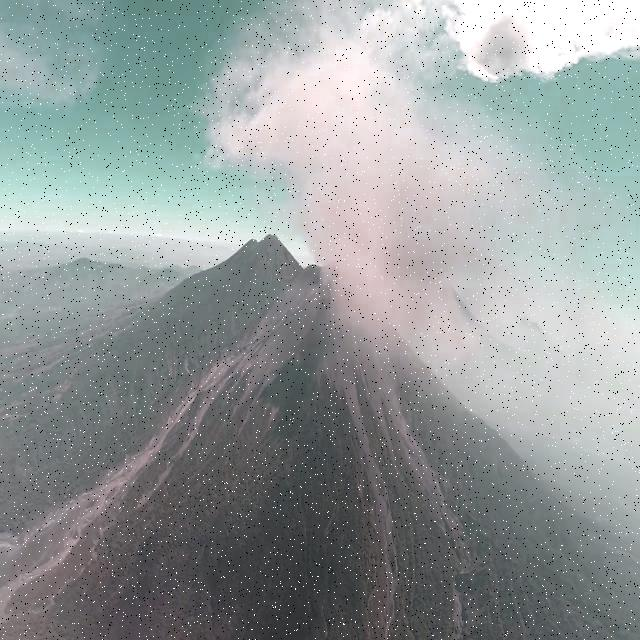Plume: (207, 21, 538, 387), (443, 2, 635, 83), (0, 1, 114, 115)
